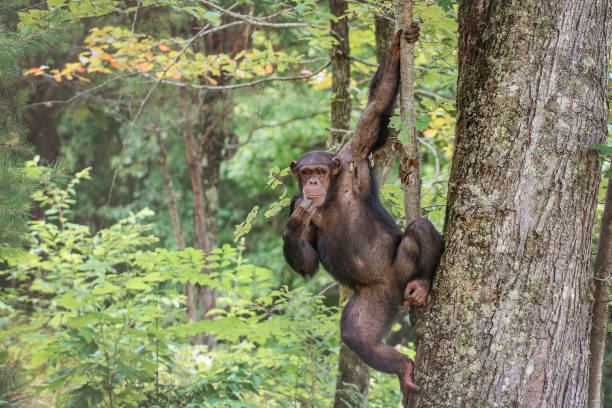chimpanzee: (286, 152, 348, 219)
